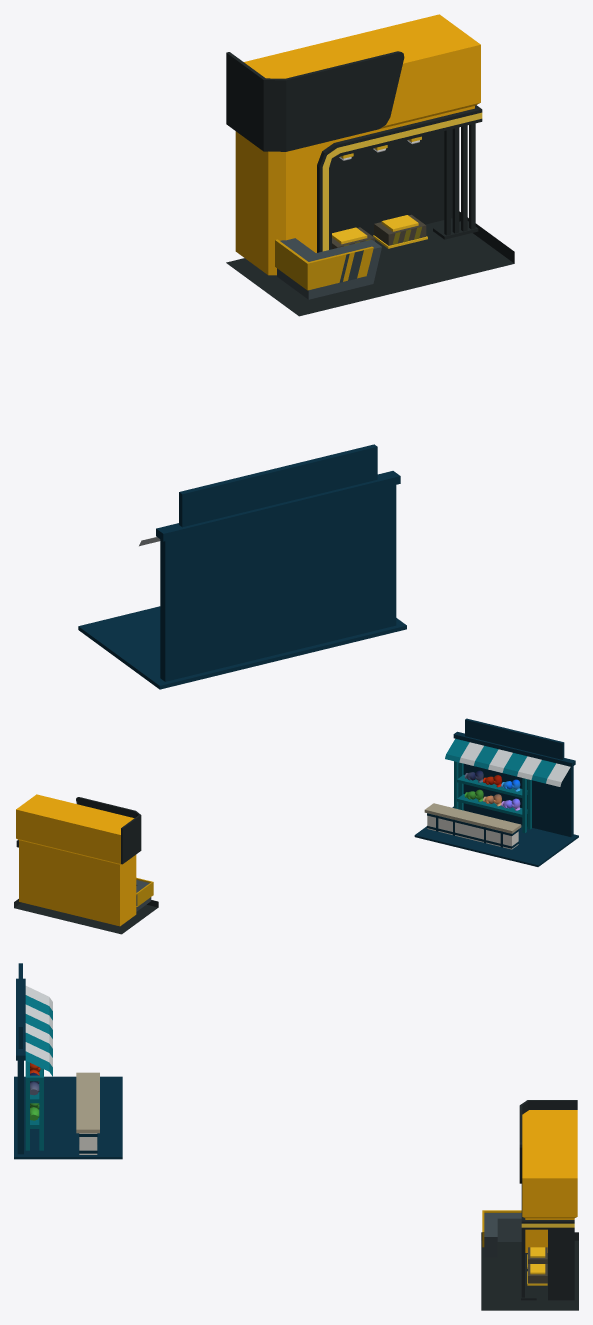
The model's file is shop.fbx.
The picture shows the model from 3 angles, top to bottom: view 1: azimuth 30°, elevation 25°; view 2: azimuth 150°, elevation 25°; view 3: azimuth 270°, elevation 25°; orthographic projection. The views are drawn at different scales.
Visible parts, largest first — view 1: Cube.043, Cube.010; view 2: Cube.010, Cube.043; view 3: Cube.043, Cube.010.
Boxes of the visible parts, left/top/right/bottom form: Cube.043: left=226, top=14, right=514, bottom=316; Cube.010: left=78, top=444, right=406, bottom=689; Cube.010: left=414, top=718, right=578, bottom=866; Cube.043: left=14, top=794, right=158, bottom=934; Cube.043: left=481, top=1100, right=578, bottom=1310; Cube.010: left=14, top=963, right=122, bottom=1159.
Bounding box in the file's own units: 15.07 × 4.3 × 15.69.
